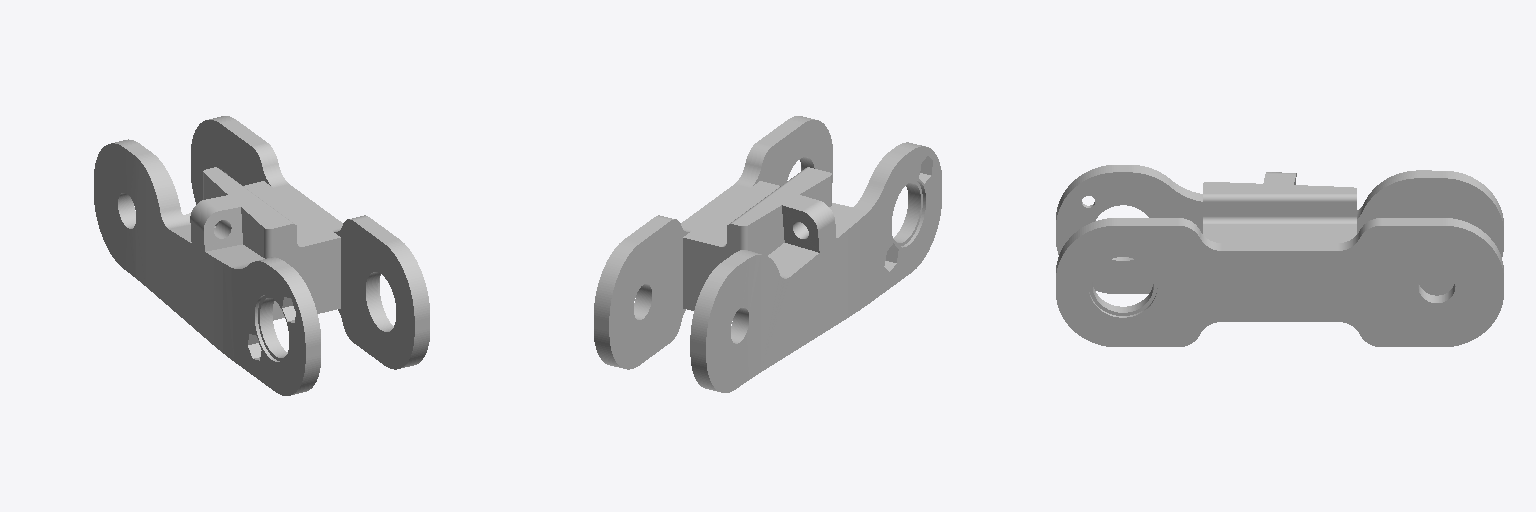
Rendered from Finger Unified Assembly - Finger Link 1.obj.
3 views of the same model, side by side, from view 1: azimuth 30°, elevation 25°; view 2: azimuth 150°, elevation 25°; view 3: azimuth 270°, elevation 25° (orthographic).
Visible parts, largest first — view 1: mesh70, mesh27, mesh91, mesh38, mesh78, mesh35, mesh71, mesh30, mesh12, mesh23, mesh7, mesh66 (+6 smaller); view 2: mesh27, mesh78, mesh91, mesh35, mesh70, mesh71, mesh30, mesh56, mesh12, mesh23, mesh33, mesh77 (+8 smaller); view 3: mesh80, mesh3, mesh34, mesh71, mesh25, mesh23, mesh24, mesh26, mesh83.
Boxes of the visible parts, x1=… form: mesh70: x1=334, y1=219, x2=414, y2=369; mesh27: x1=146, y1=170, x2=213, y2=344; mesh91: x1=234, y1=261, x2=305, y2=395; mesh38: x1=272, y1=224, x2=340, y2=320; mesh78: x1=191, y1=120, x2=270, y2=204; mesh35: x1=94, y1=143, x2=124, y2=269; mesh71: x1=244, y1=181, x2=342, y2=246; mesh30: x1=125, y1=149, x2=145, y2=285; mesh12: x1=214, y1=258, x2=233, y2=360; mesh23: x1=203, y1=167, x2=290, y2=228; mesh7: x1=276, y1=266, x2=320, y2=347; mesh66: x1=384, y1=240, x2=429, y2=320; mesh27: x1=761, y1=221, x2=847, y2=371; mesh78: x1=609, y1=219, x2=689, y2=369; mesh91: x1=871, y1=146, x2=941, y2=301; mesh35: x1=706, y1=266, x2=737, y2=392; mesh70: x1=753, y1=120, x2=832, y2=185; mesh71: x1=681, y1=181, x2=779, y2=246; mesh30: x1=738, y1=255, x2=760, y2=387; mesh56: x1=683, y1=224, x2=739, y2=310; mesh12: x1=848, y1=210, x2=870, y2=317; mesh23: x1=733, y1=167, x2=831, y2=225; mesh33: x1=690, y1=263, x2=735, y2=344; mesh77: x1=594, y1=240, x2=639, y2=320; mesh80: x1=1056, y1=226, x2=1503, y2=346; mesh3: x1=1056, y1=172, x2=1202, y2=293; mesh34: x1=1357, y1=178, x2=1503, y2=295; mesh71: x1=1203, y1=224, x2=1356, y2=250; mesh25: x1=1203, y1=202, x2=1356, y2=215; mesh23: x1=1203, y1=174, x2=1356, y2=193; mesh24: x1=1203, y1=194, x2=1356, y2=201; mesh26: x1=1203, y1=216, x2=1356, y2=223; mesh83: x1=1089, y1=255, x2=1157, y2=315.
Bounding box in the file's own units: 0.0236 × 0.022 × 0.0734.